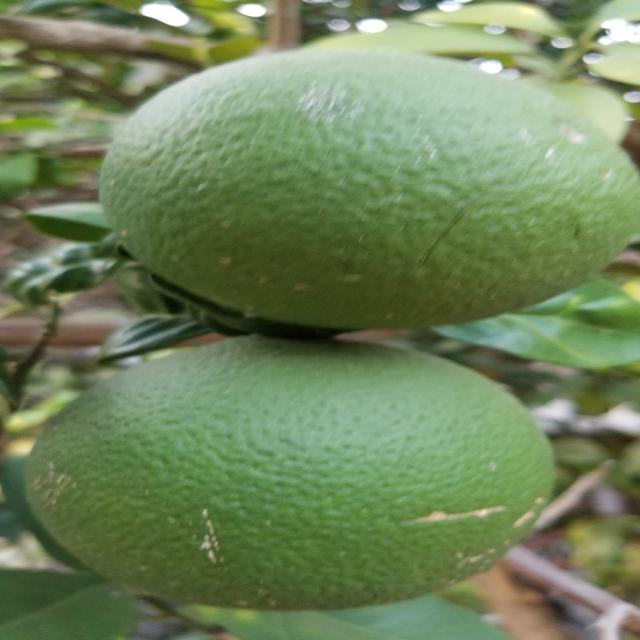Unripe: (91, 45, 640, 338), (19, 329, 572, 614)
